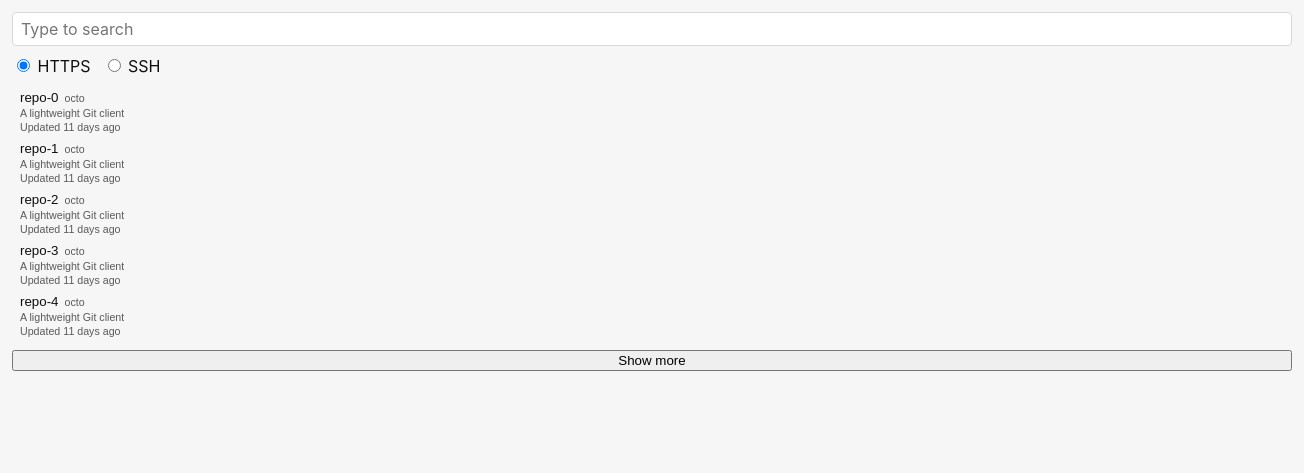
Scenario: RepoBrowser paging › keeps the loaded list when Show more fails
Click the button "Show more" at (652, 360), box x1=12 y1=350 x2=1292 y2=371
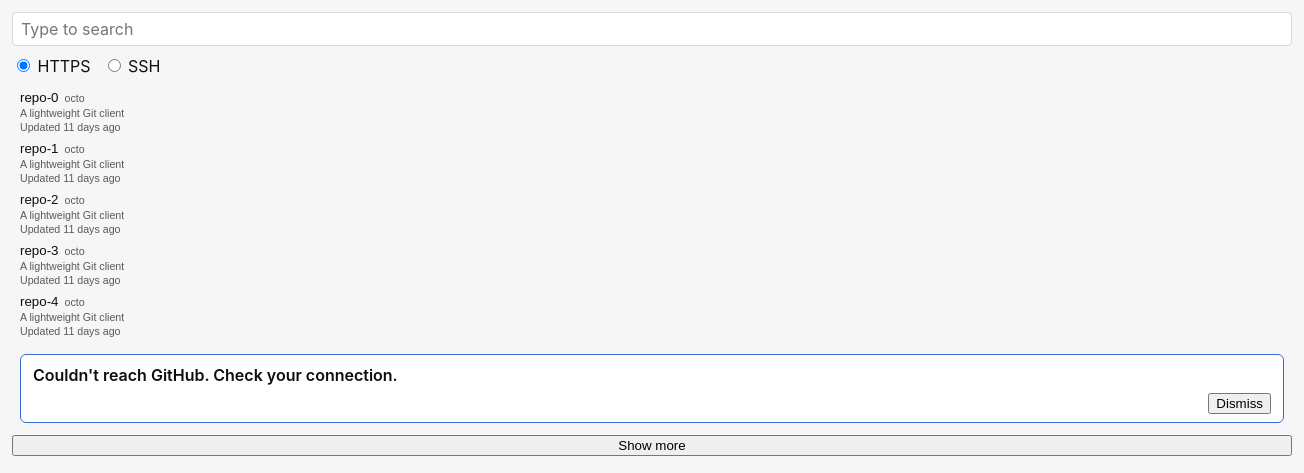
Expected: the message "Couldn't reach GitHub. Check your connection. Dismiss" is shown, x1=20 y1=354 x2=1284 y2=423
